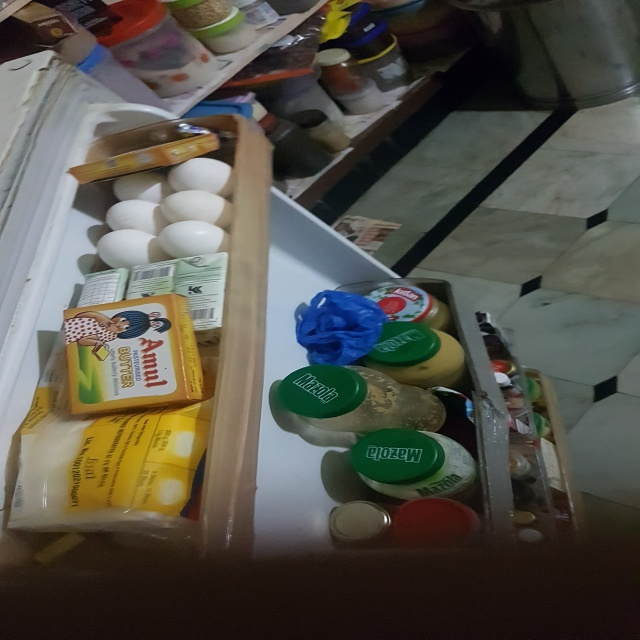butter: (58, 297, 208, 413)
